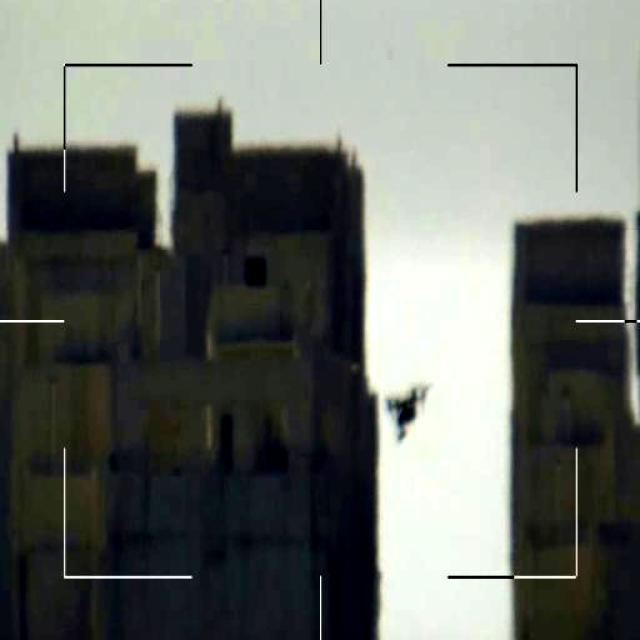bird: (382, 385, 434, 450)
